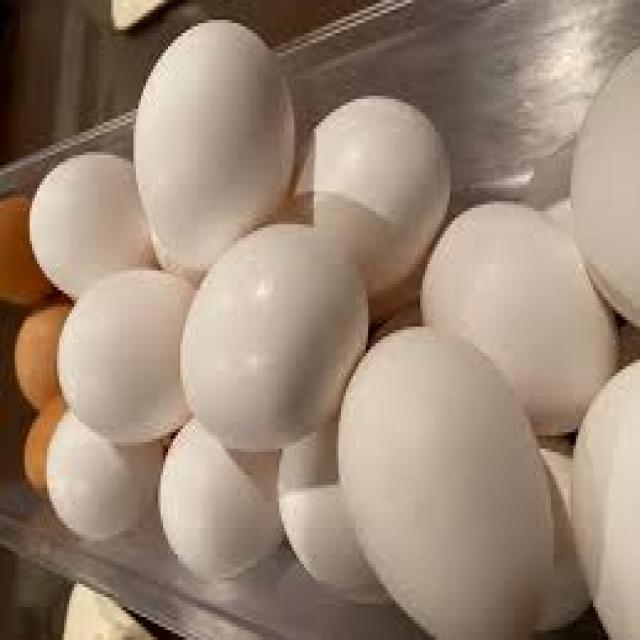egg: (339, 330, 539, 638), (180, 224, 371, 450), (133, 20, 297, 275)
